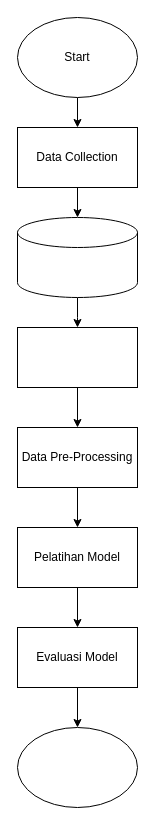
This 155x825 diagram has some shape labels left out. The shapes that lost their labels are listed below. From the top down, each one's centre as x and y in pixels, then its label:
At pixel 77 257: "Dataset".
At pixel 77 357: "Data Labelling".
At pixel 77 767: "Finish".
